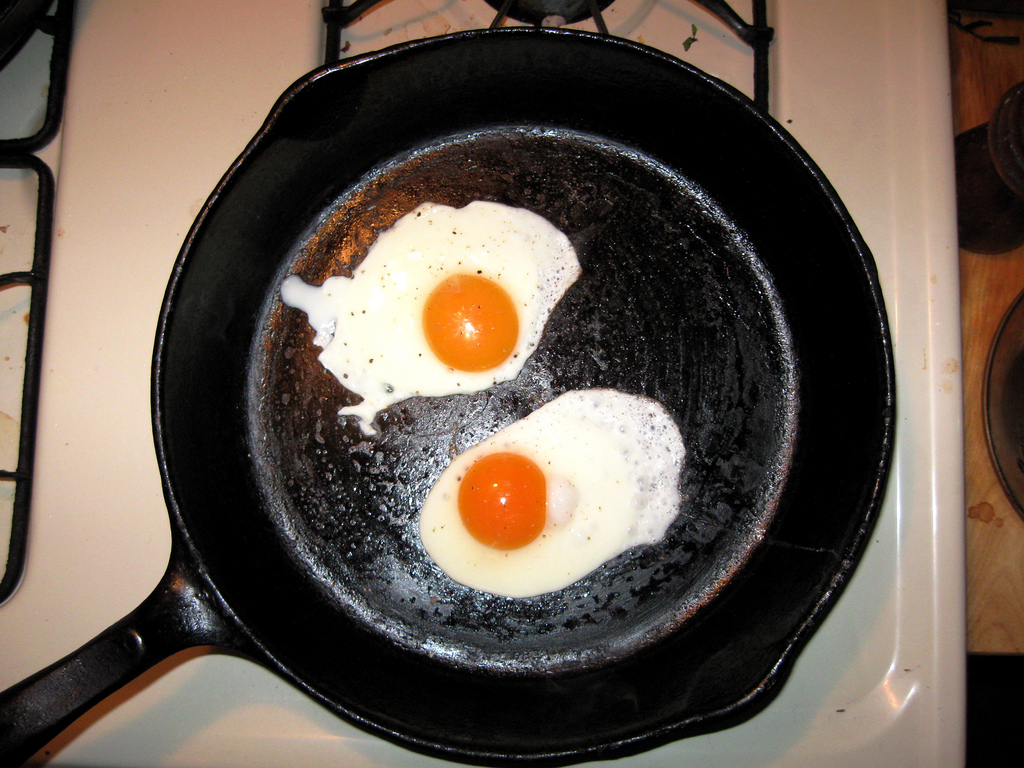fried egg: (424, 409, 714, 553), (304, 238, 575, 391)
